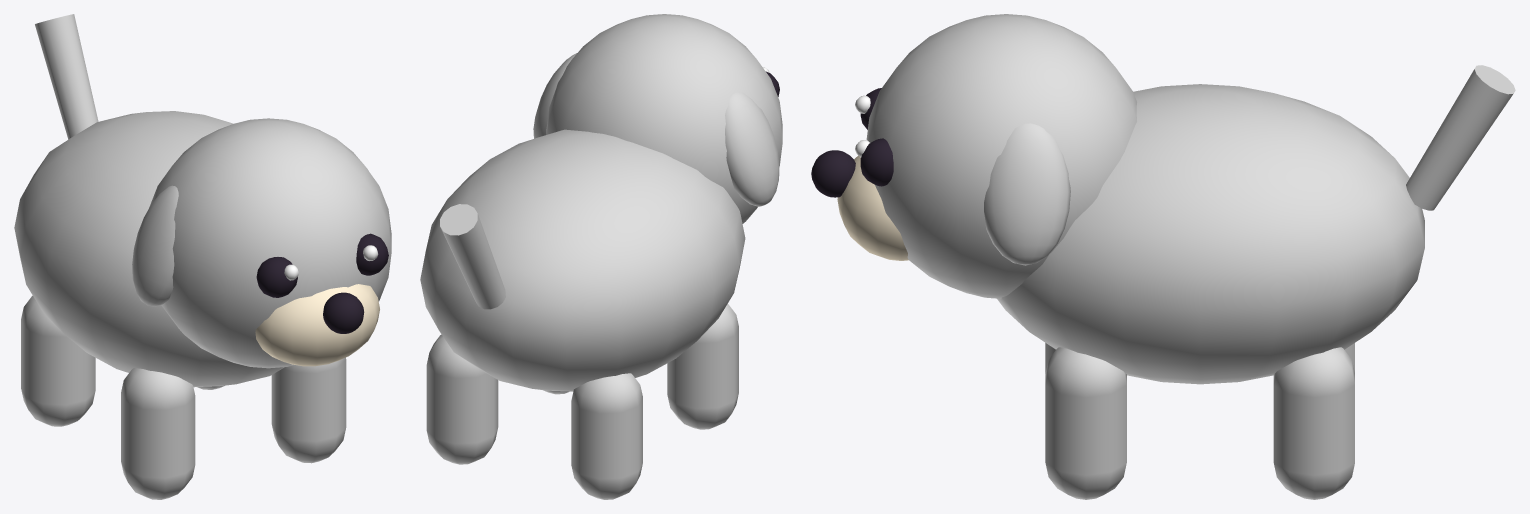
File: pet_dog_ph.glb
3 renders of one model, left to right at view 1: azimuth 30°, elevation 25°; view 2: azimuth 150°, elevation 25°; view 3: azimuth 270°, elevation 25°, orthographic. The views are drawn at different scales.
Visible parts, largest first — view 1: pet_dog; view 2: pet_dog; view 3: pet_dog.
Boxes of the visible parts, left/top/right/bottom form: pet_dog: left=14, top=14, right=391, bottom=499; pet_dog: left=420, top=14, right=782, bottom=499; pet_dog: left=811, top=14, right=1515, bottom=499.
Bounding box in the file's own units: 0.38 × 0.495 × 0.7407.
